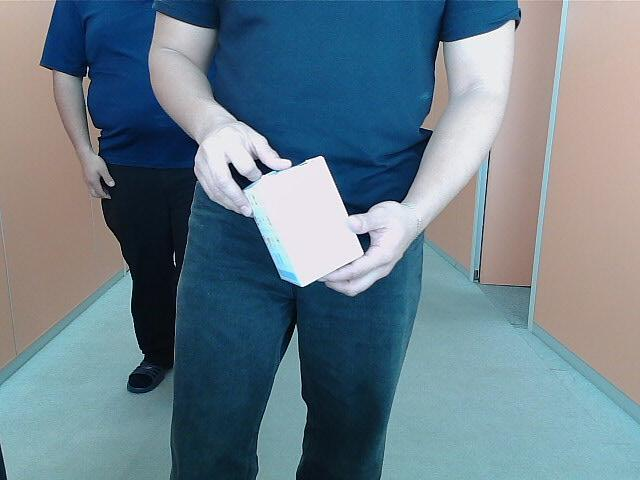Blind_box: (242, 156, 362, 298)
